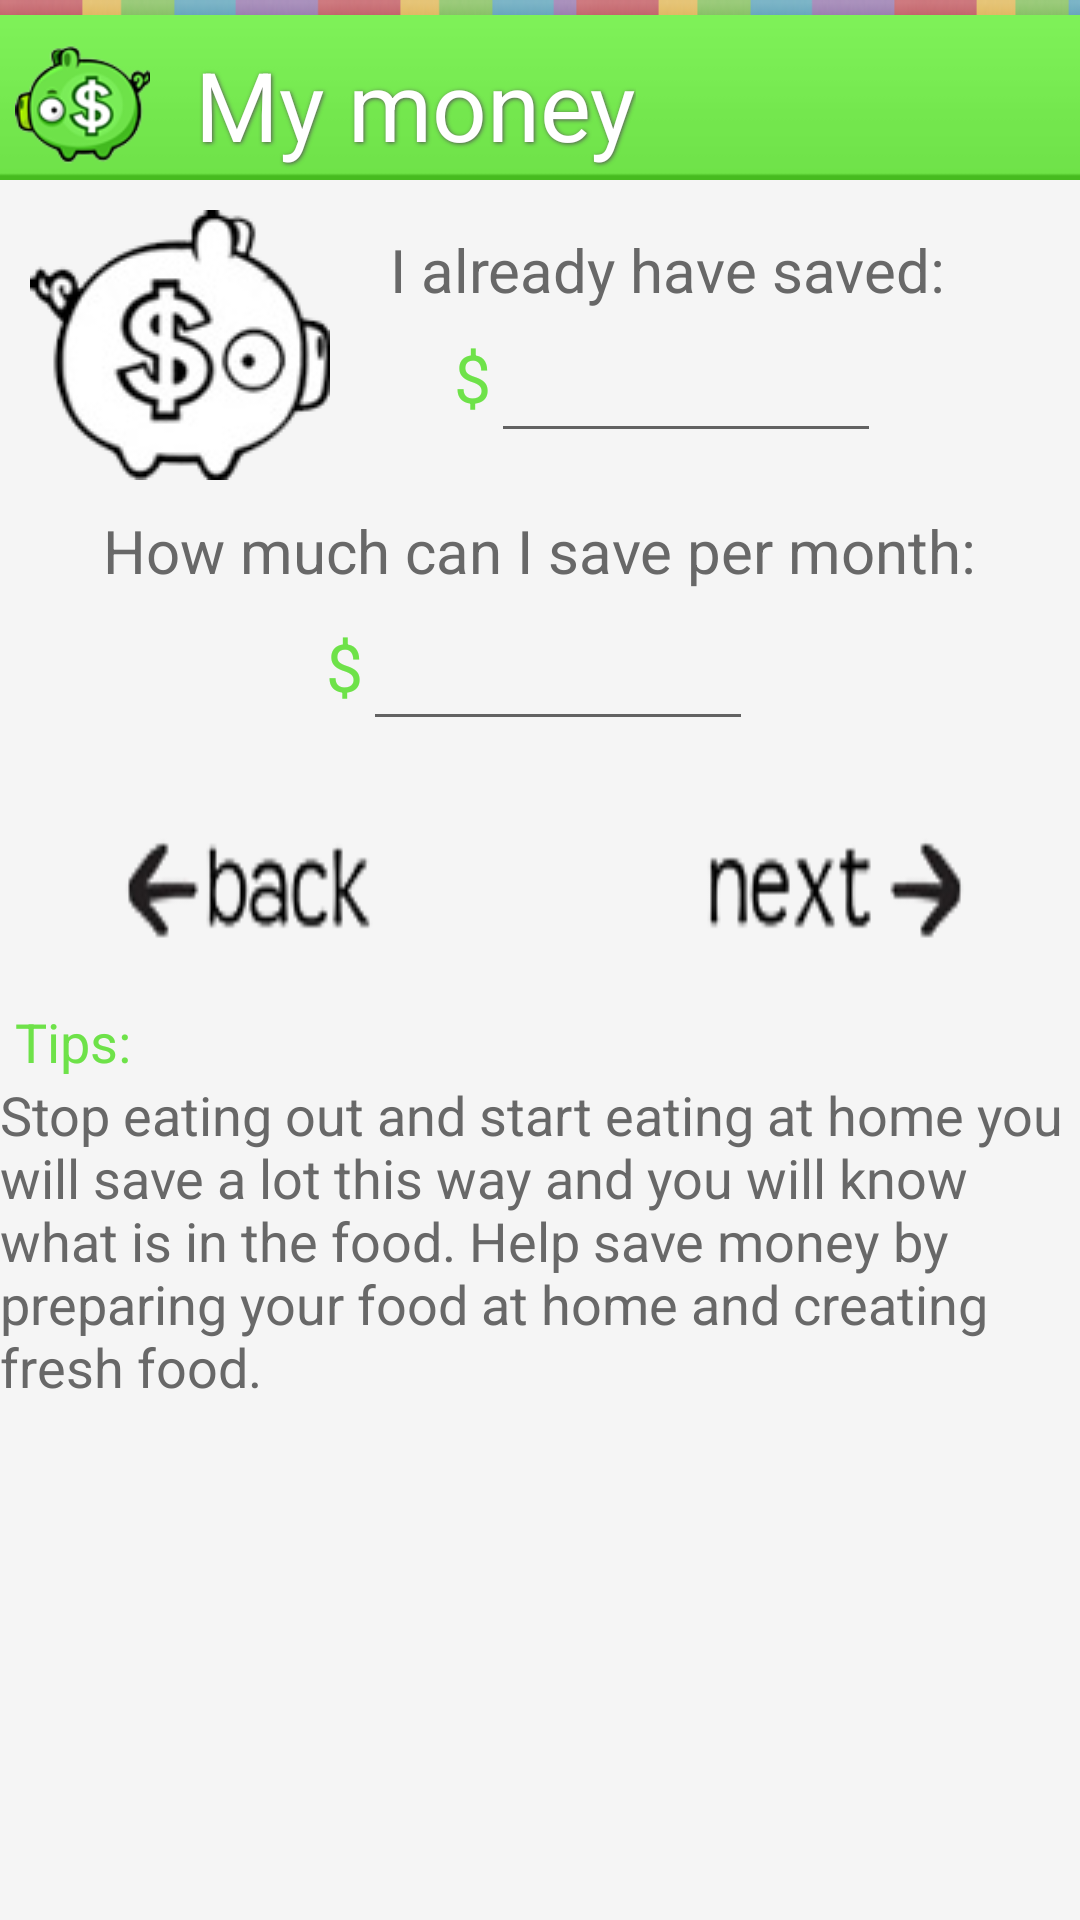

Icon click points for this 1080*1920 phone screenshot, format (x=x, y=y):
poupanca: (x=180, y=345)
